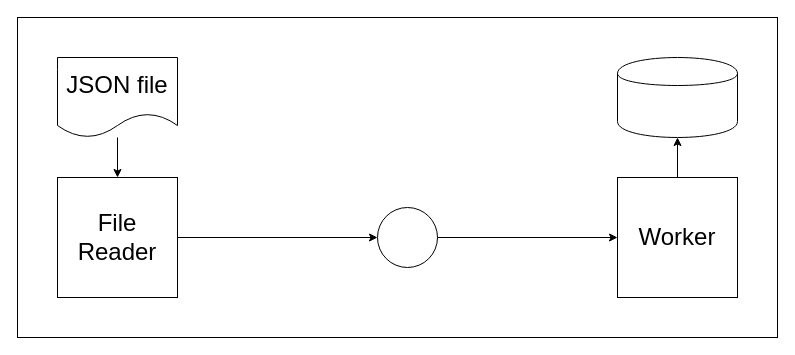
Image size: 795x355. Some labels were removed from this diagram. The shapes that lost their labels are listed below. From the top down, each one's centre as x and y in pixels, then its label:
At point (677, 97): "BigQuery".
At point (407, 237): "c1".
